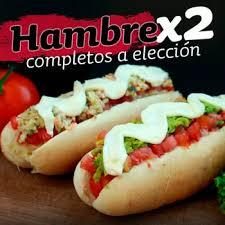Completos: (0, 62, 177, 180), (84, 92, 225, 225)
